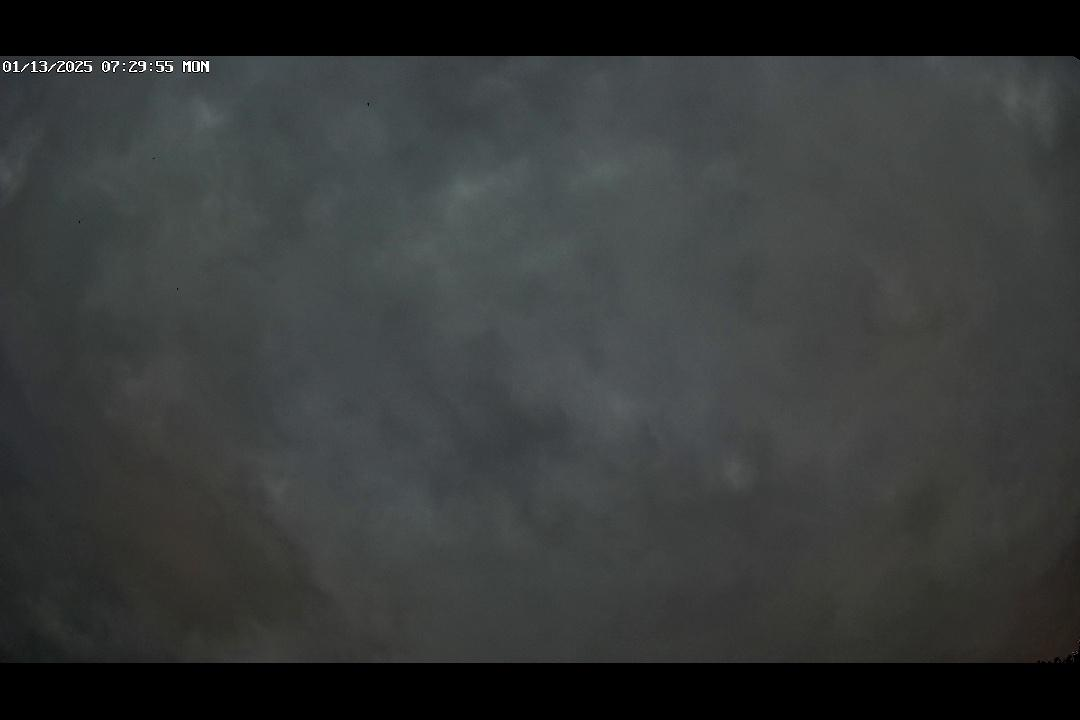WildLife: (357, 98, 382, 110), (71, 216, 90, 226), (168, 285, 186, 293), (147, 153, 161, 162)
